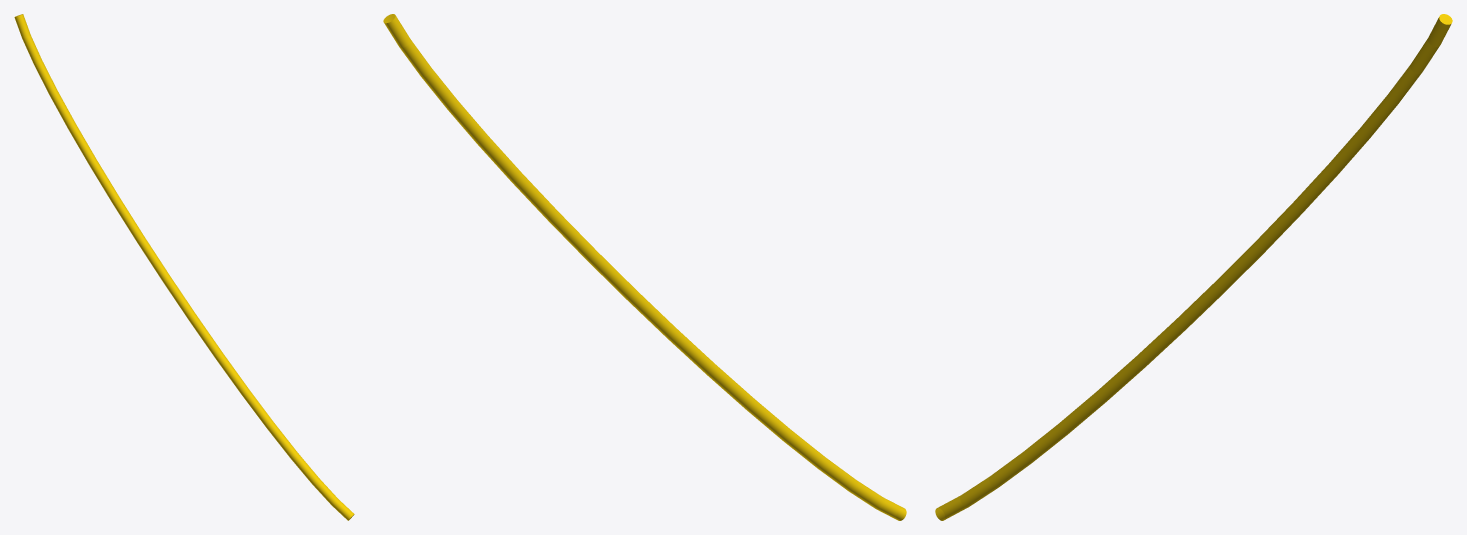
The model's file is Event_421127236_track_14.fbx.
3 renders of one model, left to right at view 1: azimuth 90°, elevation 25°; view 2: azimuth 150°, elevation 25°; view 3: azimuth 270°, elevation 25°, orthographic. The views are drawn at different scales.
Visible parts, largest first — view 1: Model; view 2: Model; view 3: Model.
Part boxes in pixels (x1,y1,x2,y2): Model: (14,14,354,520); Model: (383,14,906,520); Model: (935,14,1452,520).
Size of the model in its own units: 0.9258 by 1.97 by 1.45.
